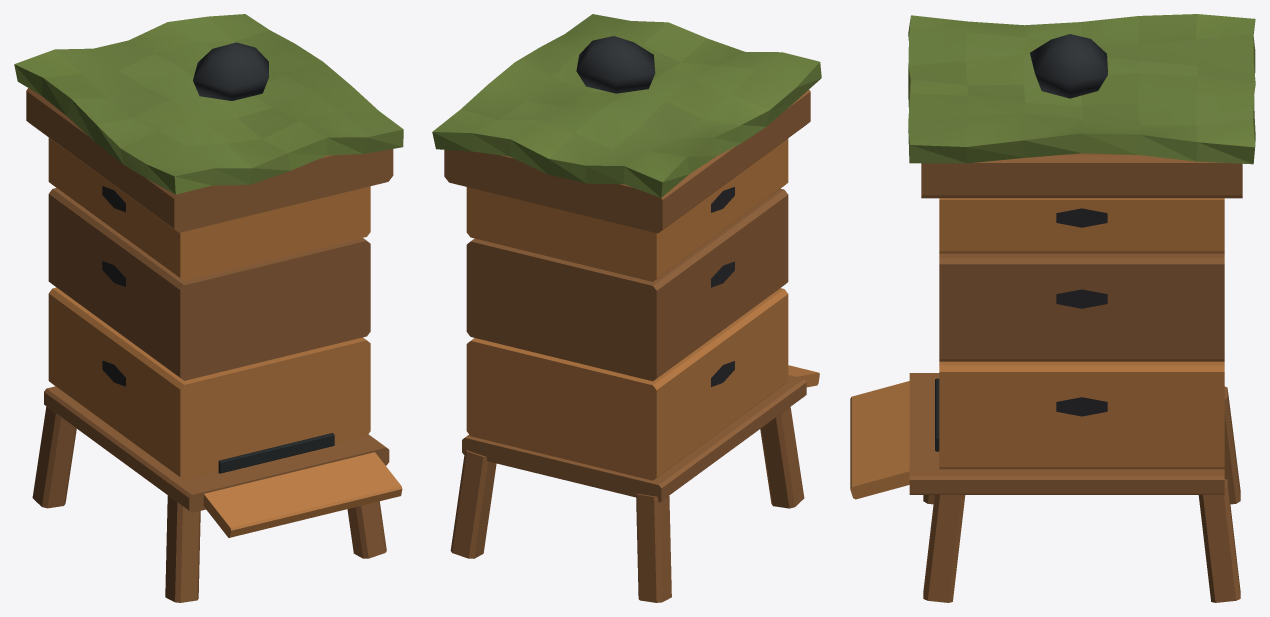
The model's file is prop_beehive_a.glb.
The picture shows the model from 3 angles, left to right: view 1: azimuth 30°, elevation 25°; view 2: azimuth 150°, elevation 25°; view 3: azimuth 270°, elevation 25°; orthographic projection. The views are drawn at different scales.
Visible parts, largest first — view 1: prop_beehive_a_mesh; view 2: prop_beehive_a_mesh; view 3: prop_beehive_a_mesh.
Boxes of the visible parts, bbox=[...] form: prop_beehive_a_mesh: bbox=[14, 14, 403, 602]; prop_beehive_a_mesh: bbox=[432, 14, 821, 602]; prop_beehive_a_mesh: bbox=[850, 14, 1255, 602].
Bounding box in the file's own units: 0.488 × 0.9743 × 0.6821.
